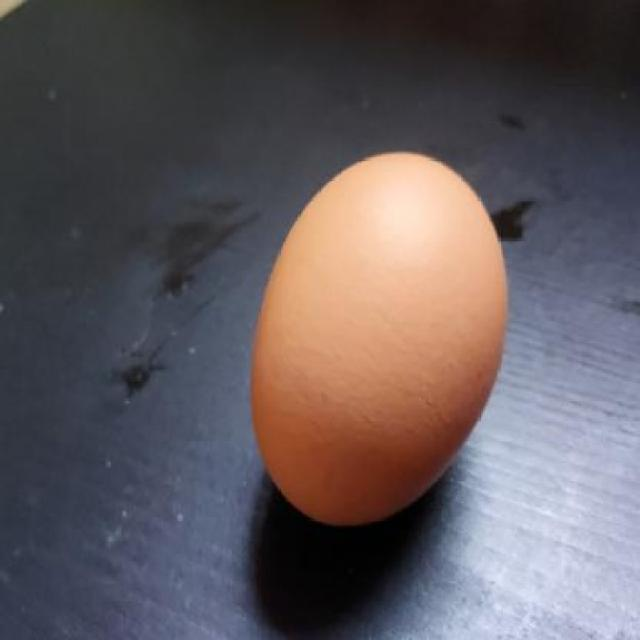biodegradable: (248, 150, 512, 530)
